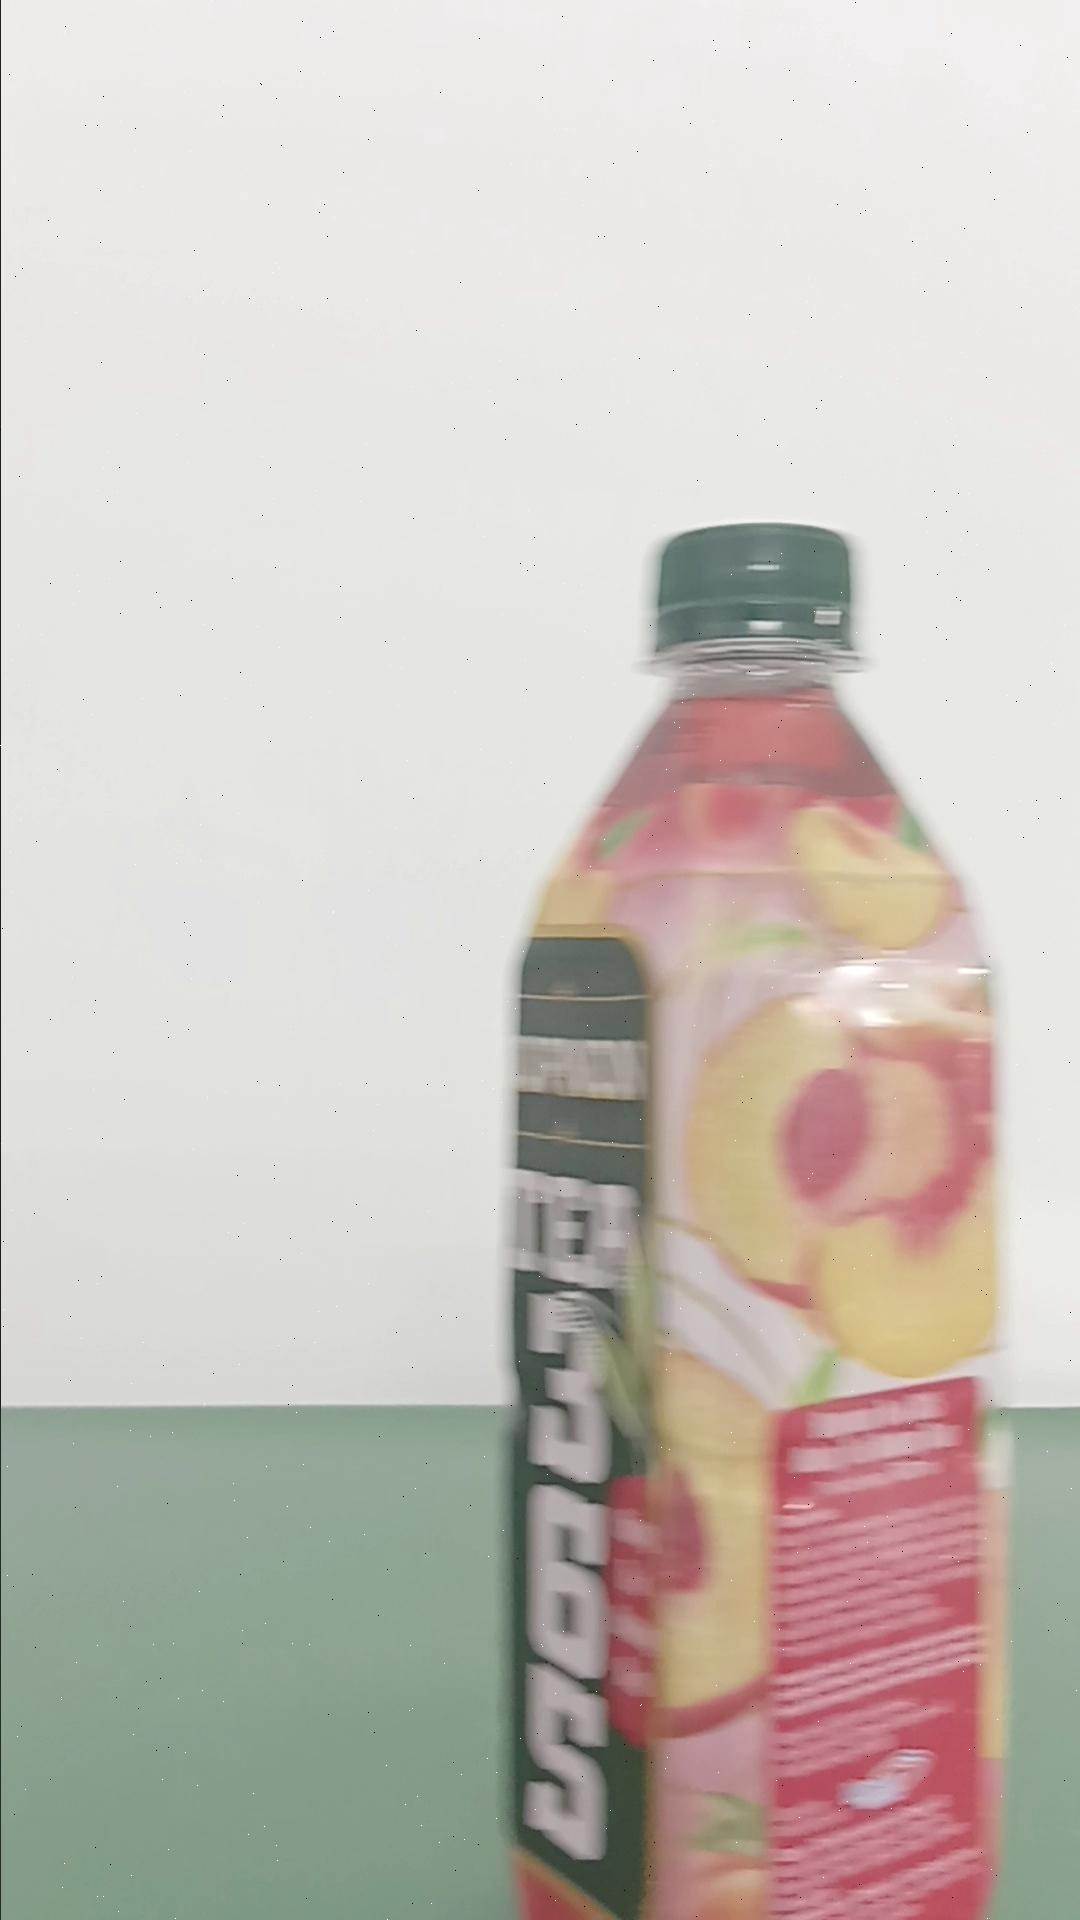khong loi: (496, 520, 1007, 1915)
